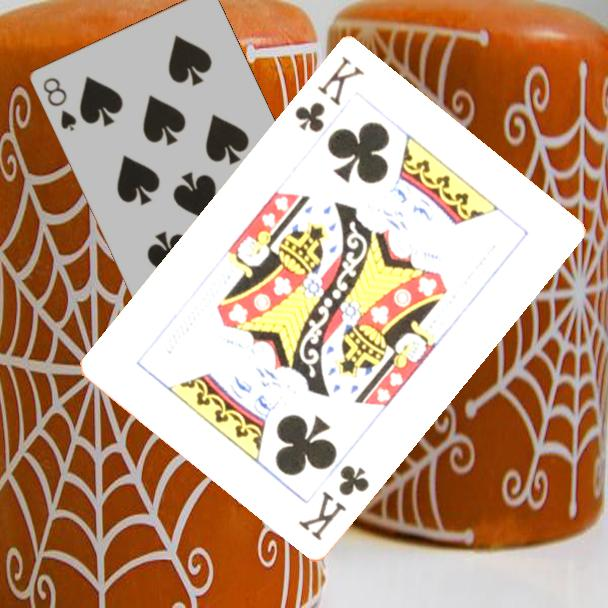c13: (295, 461, 373, 545), (291, 53, 368, 136)
s08: (39, 74, 79, 134)
